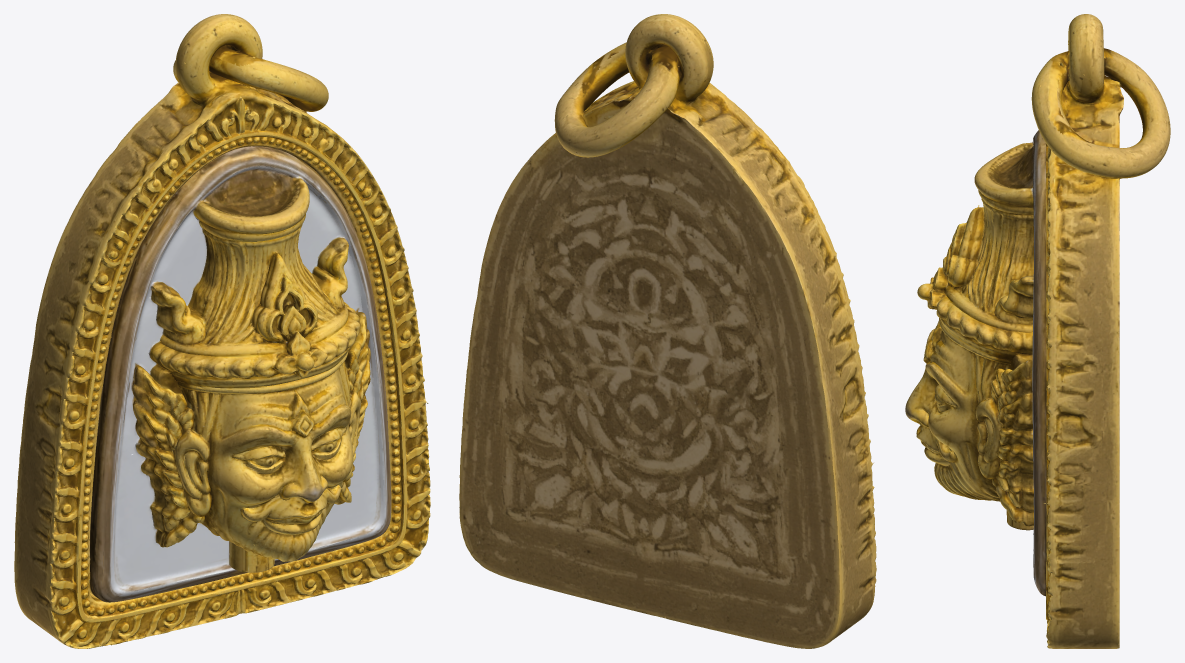
File: lersiamulet.glb
The picture shows the model from 3 angles, left to right: view 1: azimuth 30°, elevation 25°; view 2: azimuth 150°, elevation 25°; view 3: azimuth 270°, elevation 25°; orthographic projection. The views are drawn at different scales.
Parts seen in each view (by area): view 1: output; view 2: output; view 3: output.
Boxes of the visible parts, x1,y1,x2,y2 form: output: (14, 14, 430, 648); output: (459, 14, 876, 648); output: (905, 14, 1170, 648).
Bounding box in the file's own units: 0.6815 × 1 × 0.4301.
Materials: 1 (1 with a texture image).
